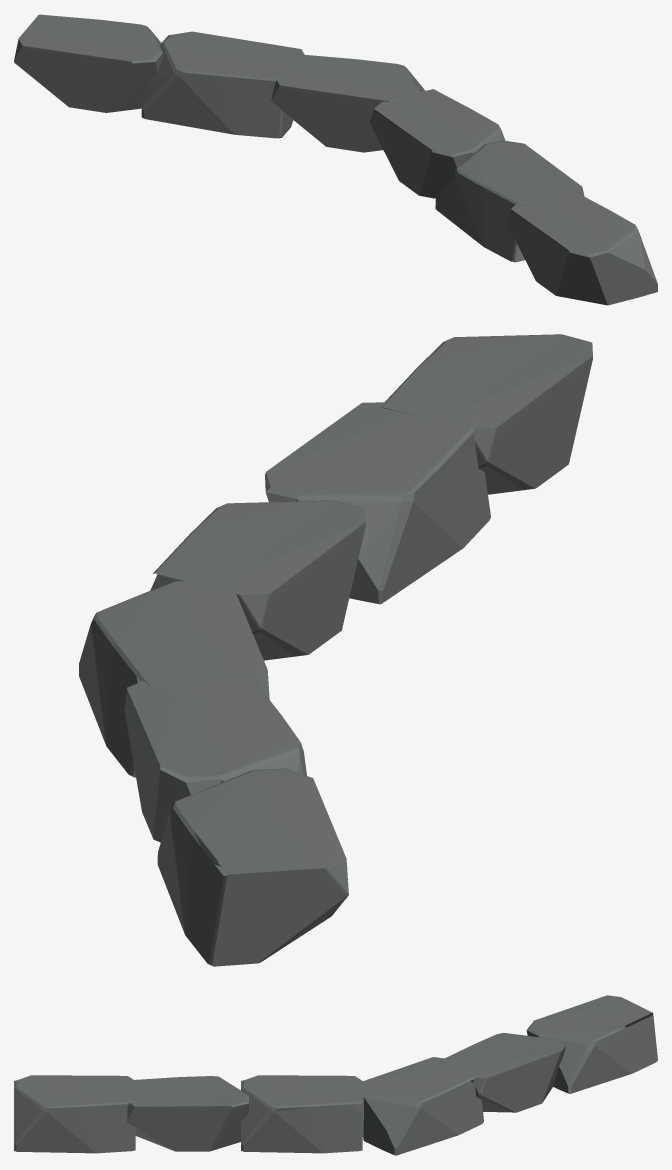
The model's file is FountainwallPiece2.fbx.
The picture shows the model from 3 angles, top to bottom: view 1: azimuth 30°, elevation 25°; view 2: azimuth 150°, elevation 25°; view 3: azimuth 270°, elevation 25°; orthographic projection. The views are drawn at different scales.
Parts seen in each view (by area): view 1: Rock 4.001; view 2: Rock 4.001; view 3: Rock 4.001.
Part boxes in pixels (x1,y1,x2,y2): Rock 4.001: (14,14,657,305); Rock 4.001: (79,334,592,966); Rock 4.001: (14,995,657,1155).
Bounding box in the file's own units: 2478 × 447 × 5673.
